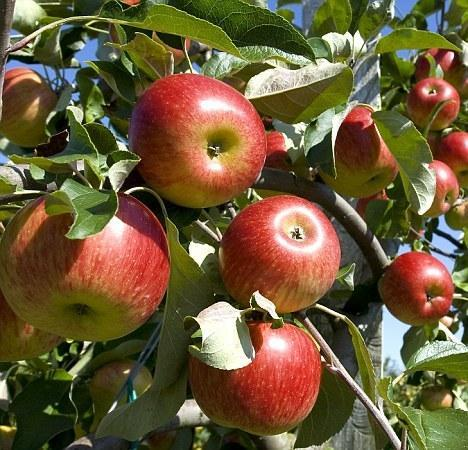apple: (1, 181, 167, 338), (129, 72, 271, 217), (182, 311, 334, 435), (219, 195, 341, 316), (309, 101, 408, 191), (377, 248, 451, 323), (395, 152, 460, 219), (402, 77, 463, 138)
